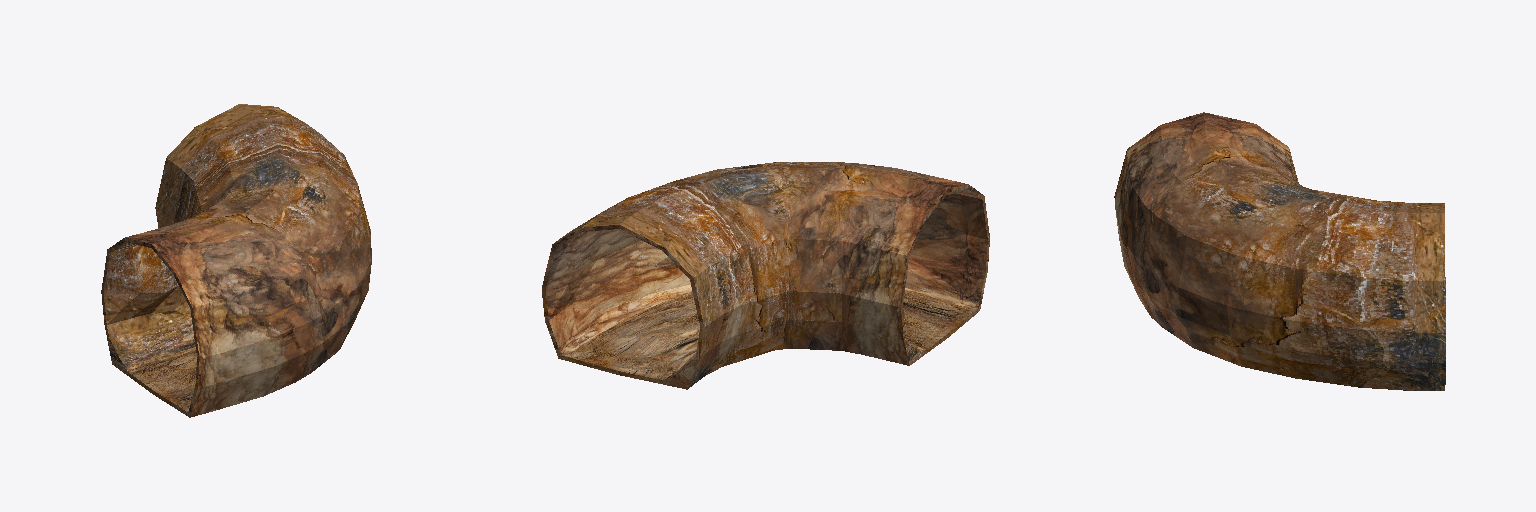
3 views of the same model, side by side, from view 1: azimuth 30°, elevation 25°; view 2: azimuth 150°, elevation 25°; view 3: azimuth 270°, elevation 25° (orthographic).
Parts seen in each view (by area): view 1: cavecorridor5; view 2: cavecorridor5; view 3: cavecorridor5.
Boxes of the visible parts, x1,y1,x2,y2 form: cavecorridor5: [101, 104, 371, 417]; cavecorridor5: [542, 162, 989, 389]; cavecorridor5: [1114, 112, 1445, 390].
Size of the model in its own units: 181 by 91.84 by 180.
1 materials, 1 textured.